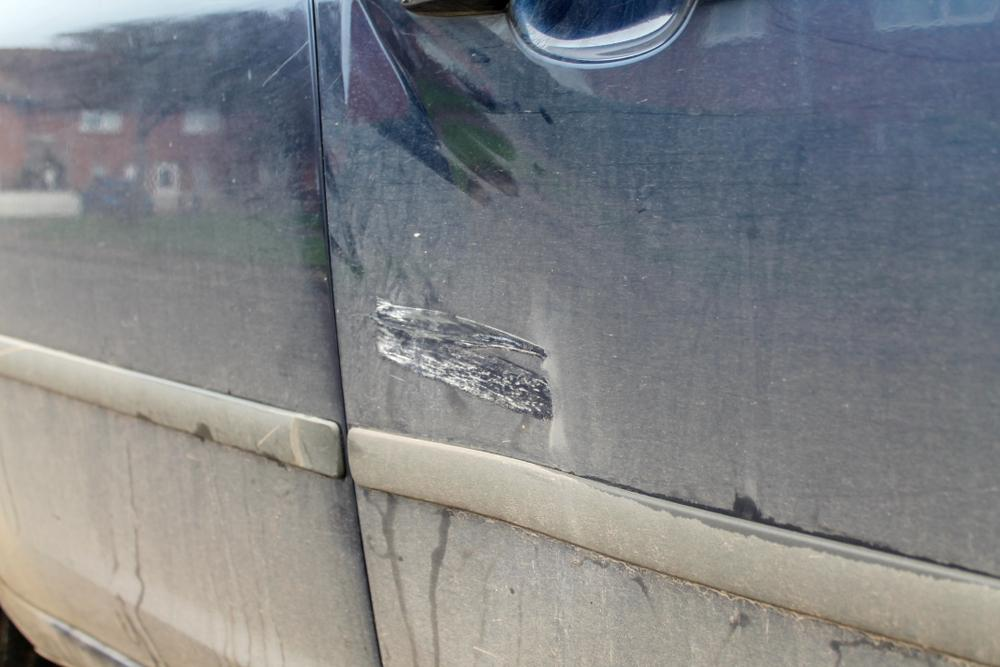scratch: (371, 295, 557, 423)
